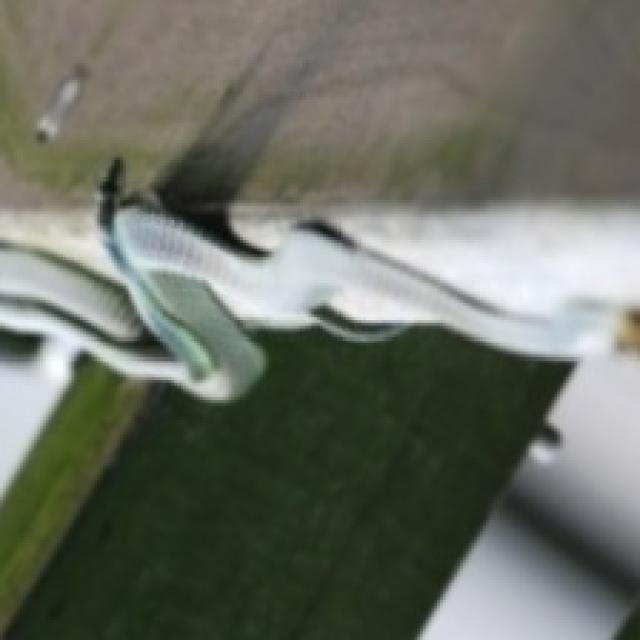paradise tree snake: (0, 160, 609, 402)
